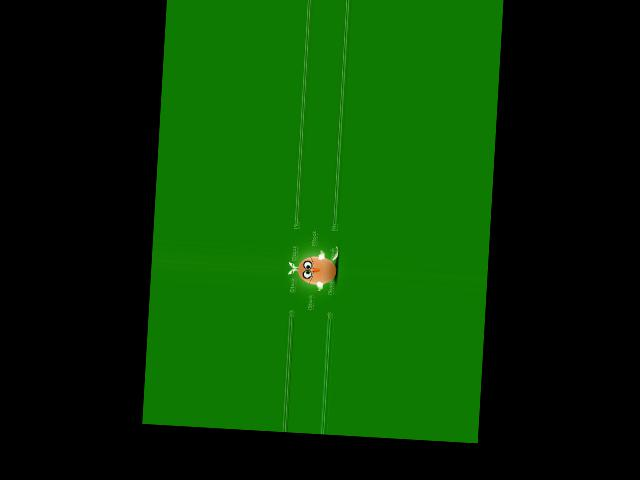egg: (297, 254, 337, 285)
